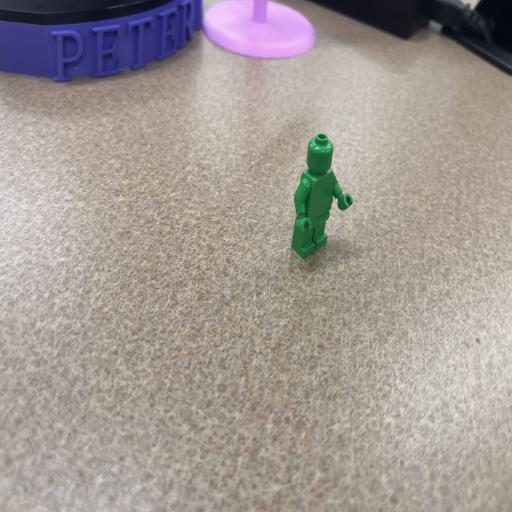Lego-Minifig: (291, 133, 353, 258)
